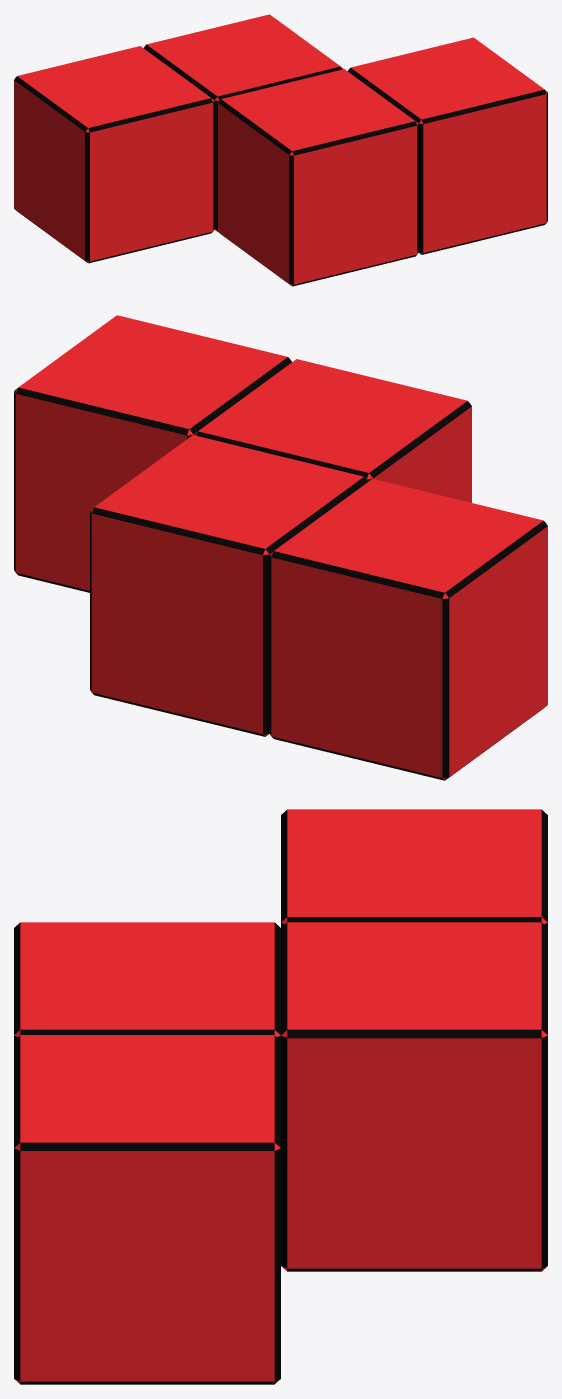
File: tetromino_chair1.fbx
3 views of the same model, one above another, from view 1: azimuth 30°, elevation 25°; view 2: azimuth 150°, elevation 25°; view 3: azimuth 270°, elevation 25° (orthographic). The views are drawn at different scales.
Parts seen in each view (by area): view 1: Cube.003; view 2: Cube.003; view 3: Cube.003.
Part boxes in pixels (x1,y1,x2,y2): Cube.003: (14,14,547,286); Cube.003: (14,315,547,780); Cube.003: (14,809,547,1384).
Size of the model in its own units: 600 by 200 by 400.
